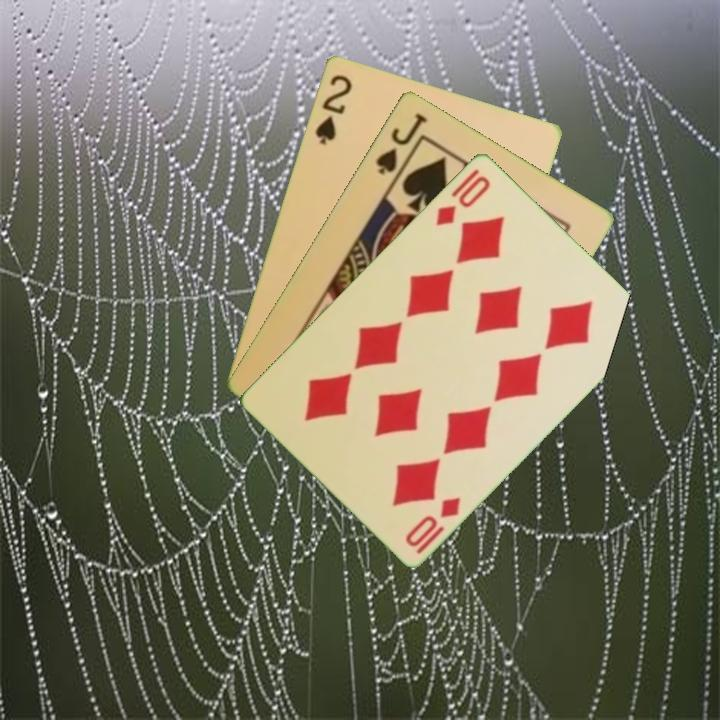10d: (401, 492, 464, 557), (432, 165, 494, 228)
2s: (311, 70, 355, 148)
Js: (372, 109, 430, 177)
